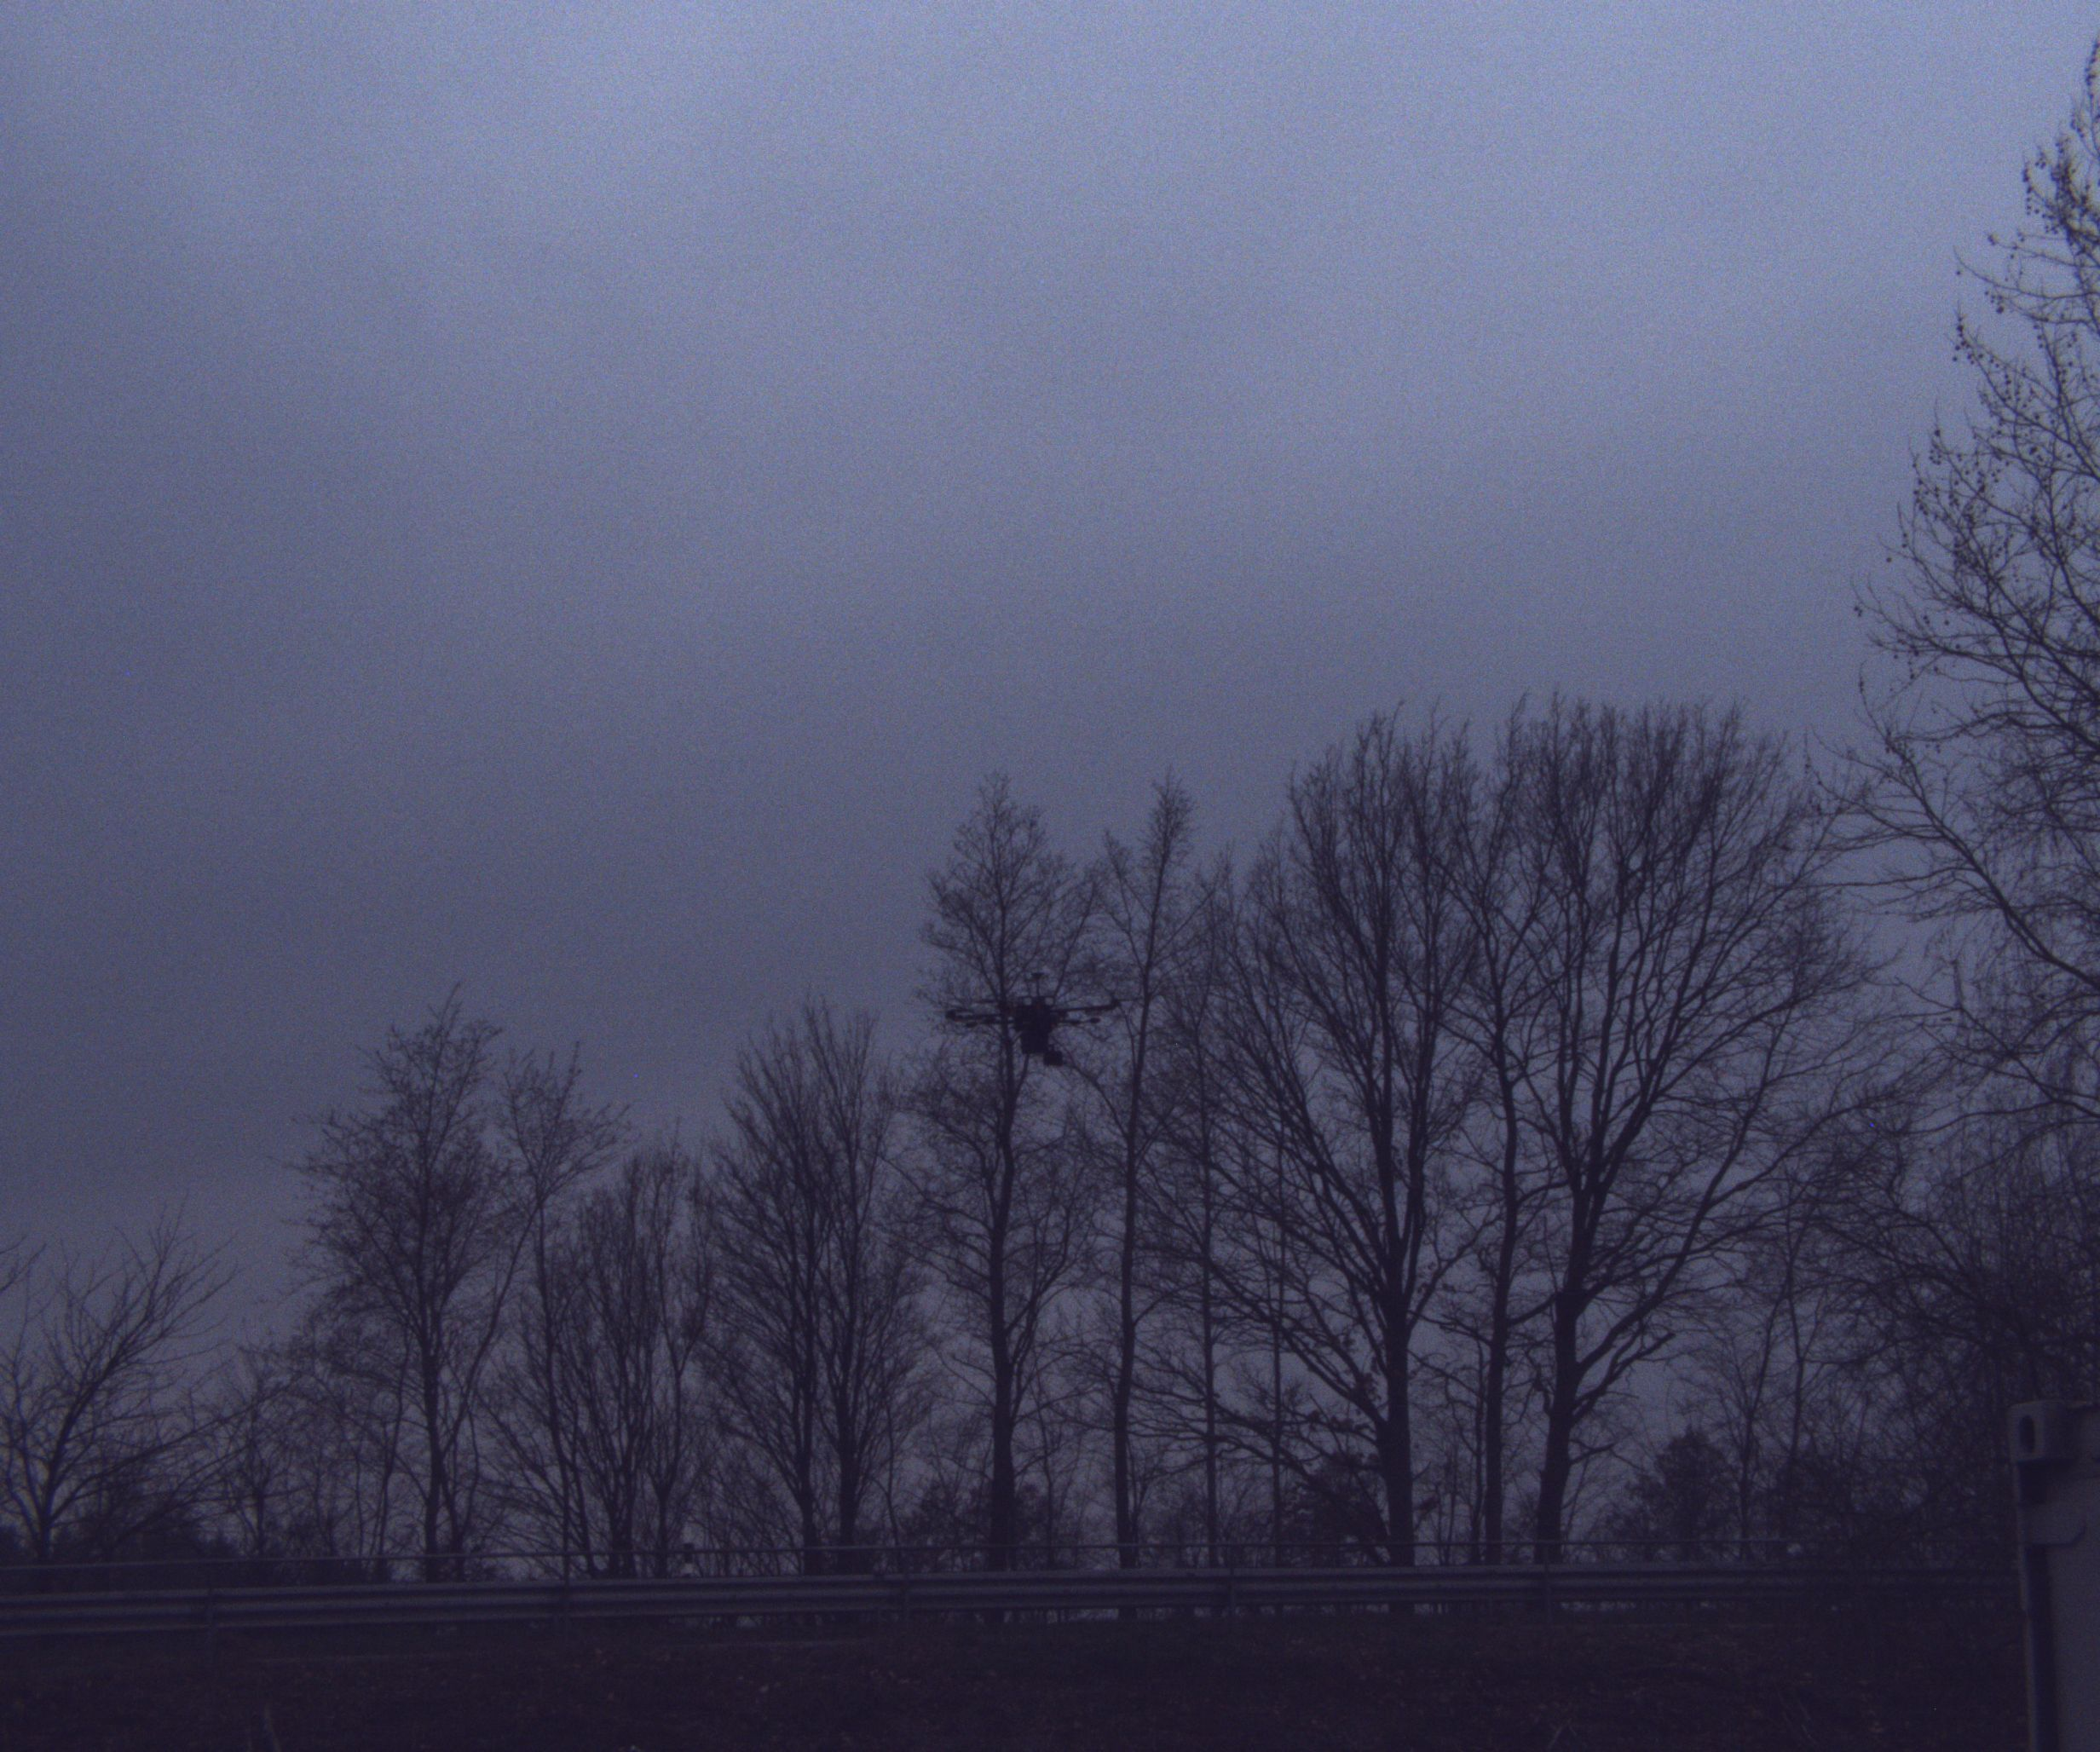Drohne: (888, 927, 1198, 1070)
